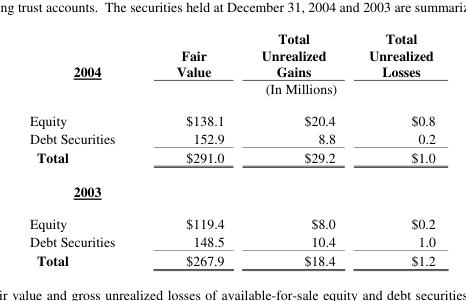table: (29, 28, 434, 269)
table column: (29, 28, 145, 269), (242, 28, 351, 269), (145, 28, 242, 269), (351, 28, 434, 269)
table column header: (29, 28, 434, 103)
table projected row header: (29, 173, 434, 207)
table row: (29, 28, 434, 79), (29, 173, 434, 207), (29, 146, 434, 173), (29, 103, 434, 128), (29, 79, 434, 103), (29, 207, 434, 231), (29, 231, 434, 250), (29, 250, 434, 269), (29, 128, 434, 146)
table spanning cell: (29, 28, 145, 103), (145, 79, 434, 103)
